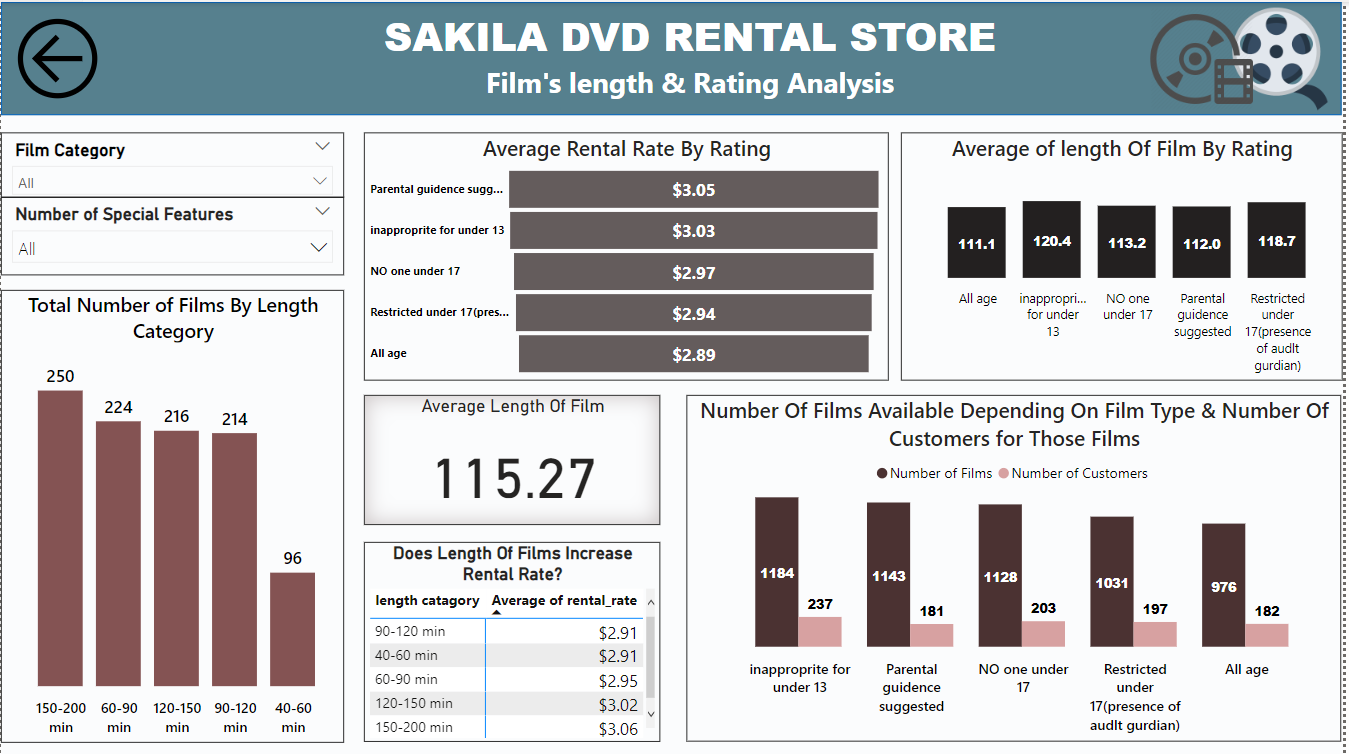

This screenshot's page, from the dashboard's own definition file:
{"tool":"powerbi","page":{"name":"film_length_rating","canvas":[1280,720],"ordinal":4},"visuals":[{"type":"shape","box":[0,0,1279.5,108.1],"z":0},{"type":"image","box":[1160.3,0,119.2,108.1],"z":1000},{"type":"image","box":[1090.3,0,109.7,108.1],"z":2000},{"type":"textbox","box":[255.9,0,802.6,124],"z":3000},{"type":"card","title":"Average Length Of Film (min)","fields":{"Values":["Avg(sakila film.length)"]},"box":[346.5,375.1,282.9,124],"z":4000},{"type":"clusteredColumnChart","title":"Total Number of Films By Length Category ","fields":{"Category":["sakila film.length catagory"],"Y":["CountNonNull(sakila film.film_id)"]},"box":[0,275,327.4,432.3],"z":5000},{"type":"pivotTable","title":"Does Length Of Films  Increase Rental Rate?","fields":{"Rows":["sakila film.length catagory"],"Values":["Avg(sakila film.rental_rate)"]},"box":[346.5,515,282.9,190.7],"z":6000},{"type":"funnel","title":"Average Rental Rate By Rating","fields":{"Category":["sakila film.rating_full"],"Y":["Avg(sakila film.rental_rate)"]},"box":[346.5,124,500.7,236.8],"z":7000},{"type":"clusteredColumnChart","title":"Number Of Films Available Depending On Film Type & Number Of Customers for Those Films","fields":{"Category":["sakila film.rating_full"],"Y":["CountNonNull(sakila film_actor.film_id)","CountNonNull(all id.customer_id)"]},"box":[654.8,375.1,624.6,330.6],"z":8000},{"type":"clusteredColumnChart","title":"Average of length(min) Of Film By Rating","fields":{"Category":["sakila film.rating_full"],"Y":["Avg(sakila film.length)"]},"box":[858.3,124,421.2,236.8],"z":9000},{"type":"actionButton","box":[0,0,109.7,108.1],"z":10000},{"type":"slicer","title":"Film Category","fields":{"Values":["sakila category.name"]},"box":[0,124,327.4,62],"z":11000},{"type":"slicer","fields":{"Values":["sakila film.special feature Count"]},"box":[0,186,327.4,74.7],"z":12000}]}

Visuals, with their boxes in screenshot pixels (x1, y1, x2, y2), scaled from the page's 1280x720 canvas onto the 1349x754 screenshot:
shape: rect(0, 0, 1348, 113)
image: rect(1223, 0, 1348, 113)
image: rect(1149, 0, 1265, 113)
textbox: rect(270, 0, 1116, 130)
"Average Length Of Film (min)" card: rect(365, 393, 663, 523)
"Total Number of Films By Length Category " clusteredColumnChart: rect(0, 288, 345, 741)
"Does Length Of Films  Increase Rental Rate?" pivotTable: rect(365, 539, 663, 739)
"Average Rental Rate By Rating" funnel: rect(365, 130, 893, 378)
"Number Of Films Available Depending On Film Type & Number Of Customers for Those Films" clusteredColumnChart: rect(690, 393, 1348, 739)
"Average of length(min) Of Film By Rating" clusteredColumnChart: rect(905, 130, 1348, 378)
actionButton: rect(0, 0, 116, 113)
"Film Category" slicer: rect(0, 130, 345, 195)
slicer - sakila film.special feature Count: rect(0, 195, 345, 273)
